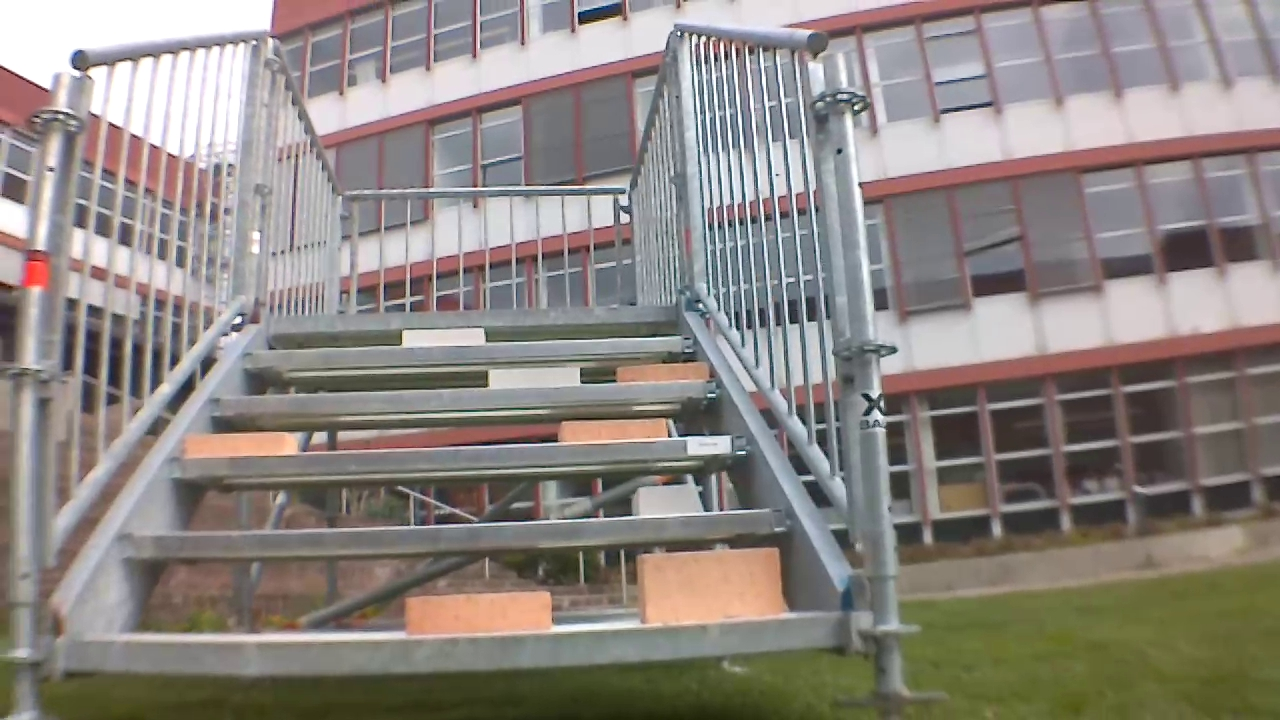brick: (638, 550, 785, 617), (399, 592, 557, 637), (555, 415, 675, 445), (190, 427, 301, 457), (482, 365, 580, 390), (614, 360, 707, 384), (631, 486, 697, 514), (405, 326, 485, 345)
edge: (76, 611, 843, 678), (171, 428, 754, 490), (123, 509, 807, 559), (211, 372, 721, 417), (240, 335, 693, 366), (272, 303, 674, 335)
stairs: (19, 24, 870, 694)
steps: (50, 305, 874, 689)
